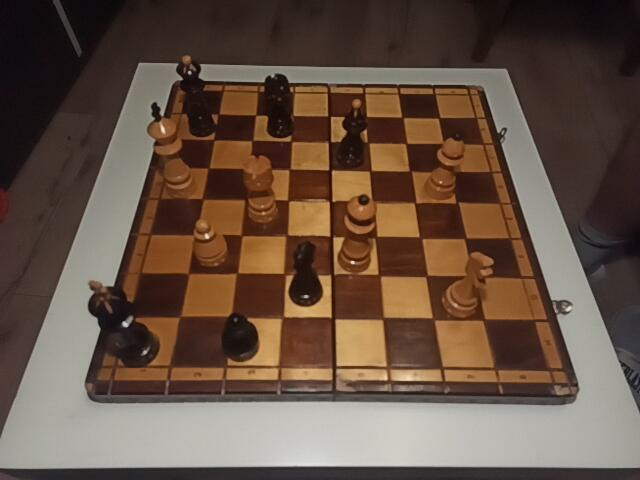B-Bishop: (338, 99, 368, 167)
B-King: (88, 280, 159, 366)
B-Knight: (289, 241, 323, 306)
B-Pawn: (222, 314, 259, 361)
B-Queen: (177, 55, 216, 137)
B-Rook: (263, 74, 295, 138)
W-Bishop: (423, 133, 467, 201)
W-King: (146, 103, 196, 196)
W-Knight: (441, 252, 494, 318)
W-Pawn: (193, 220, 228, 268)
W-Queen: (337, 195, 377, 272)
W-Rook: (242, 156, 278, 224)
